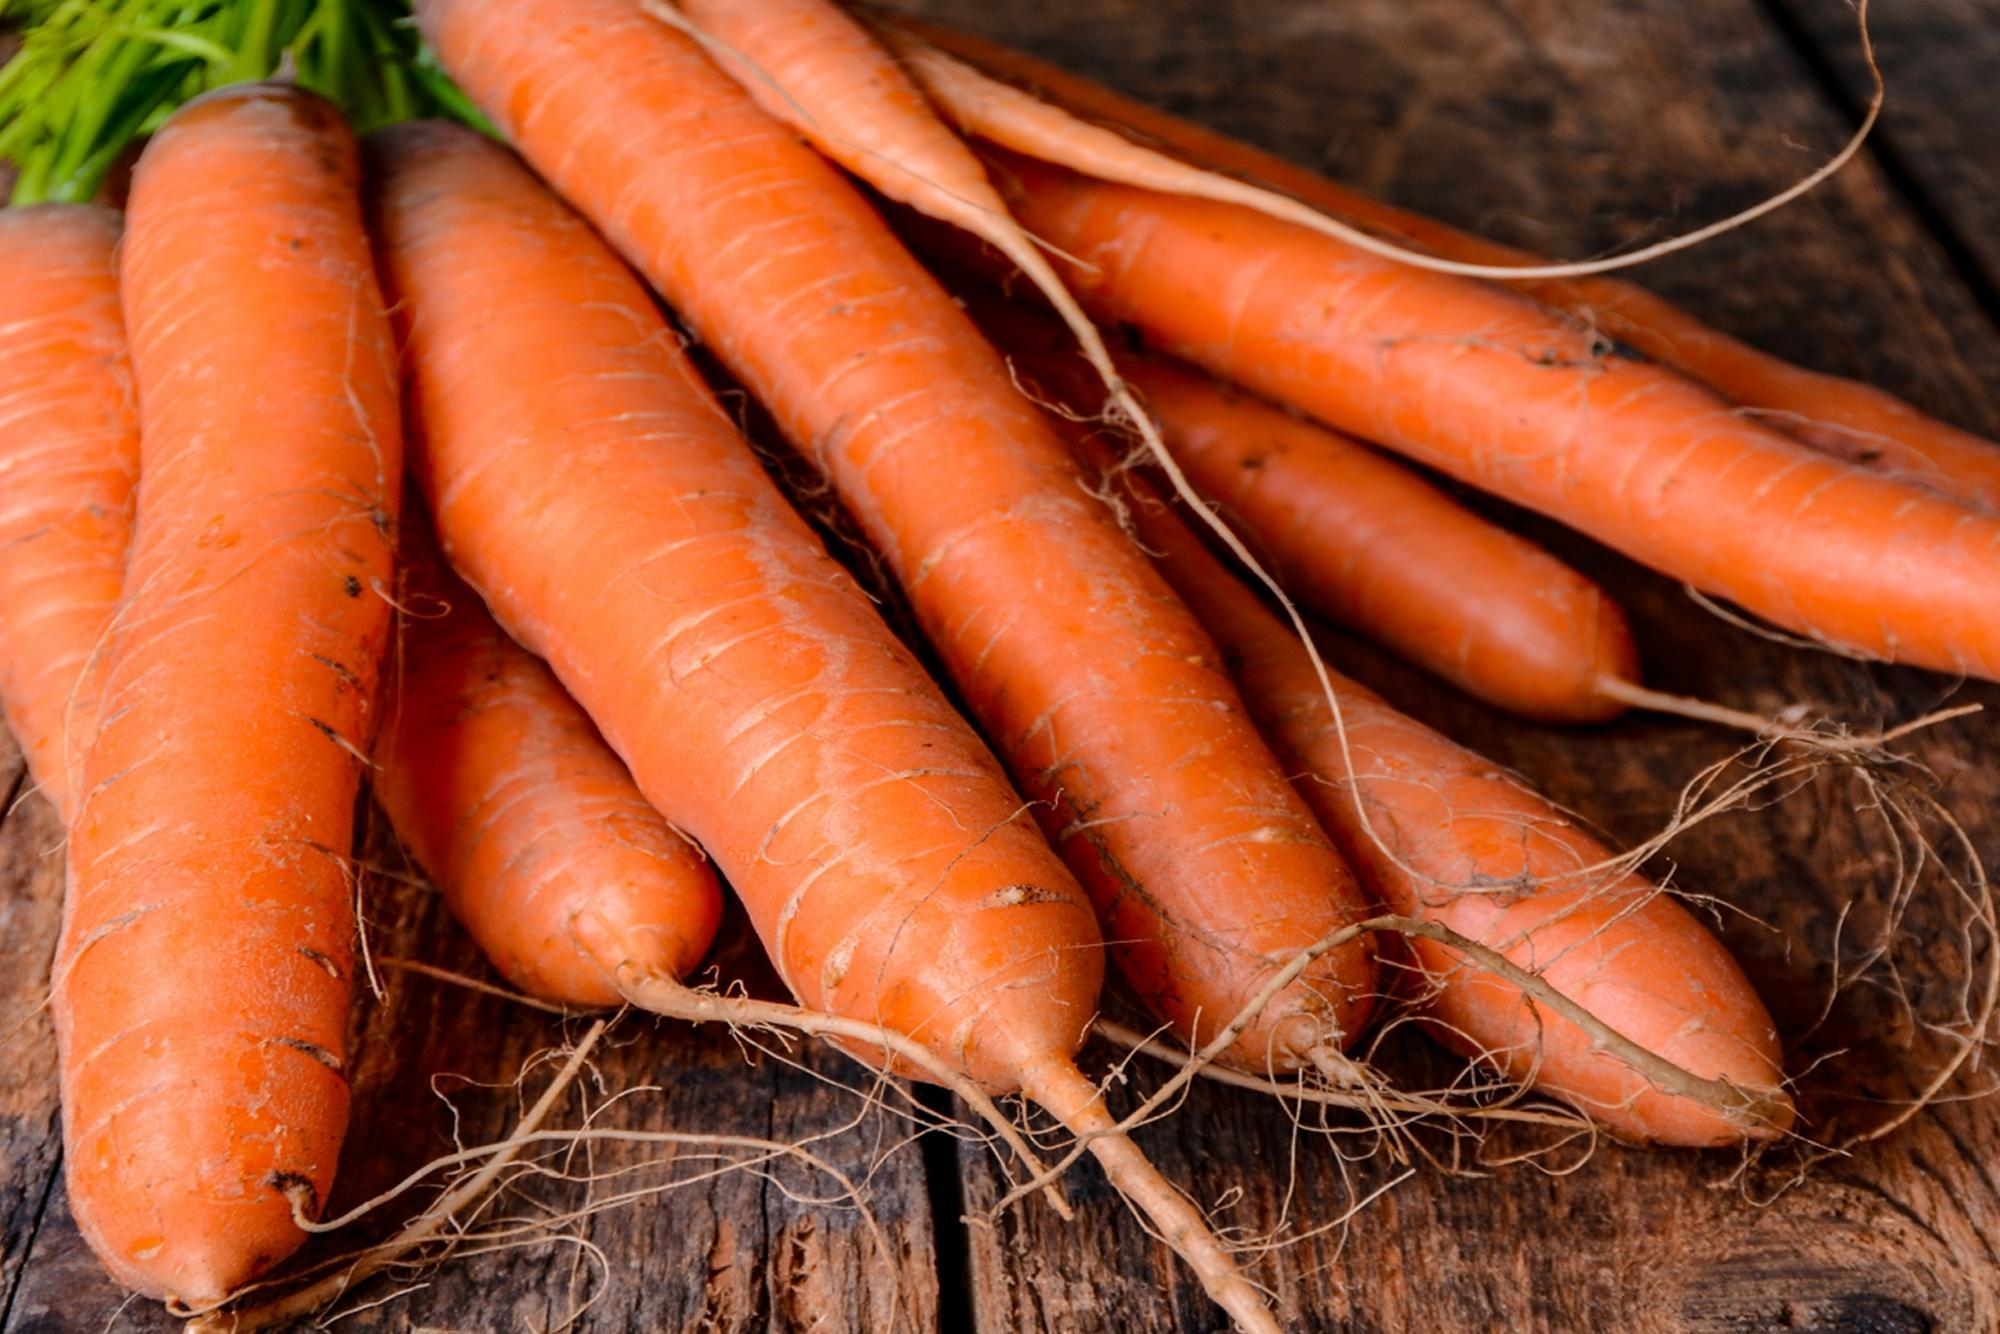carrot: (437, 16, 1871, 1041), (83, 0, 414, 1309)
